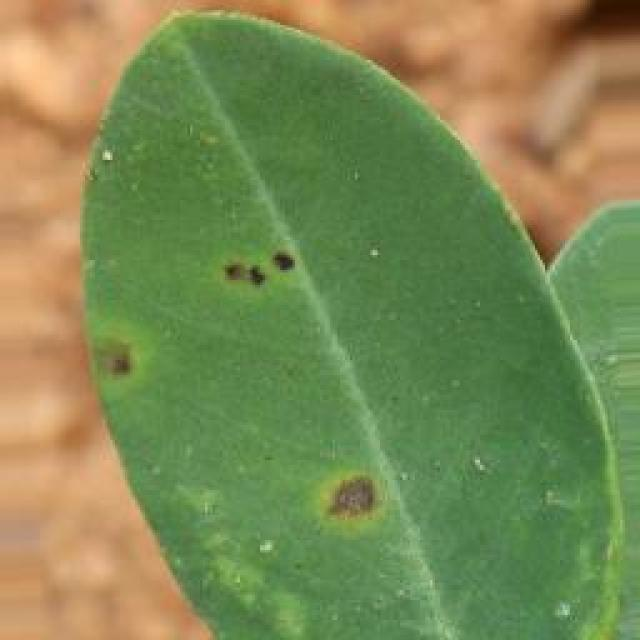Sigatoka: (286, 436, 430, 549), (213, 241, 330, 326), (82, 310, 174, 407)
